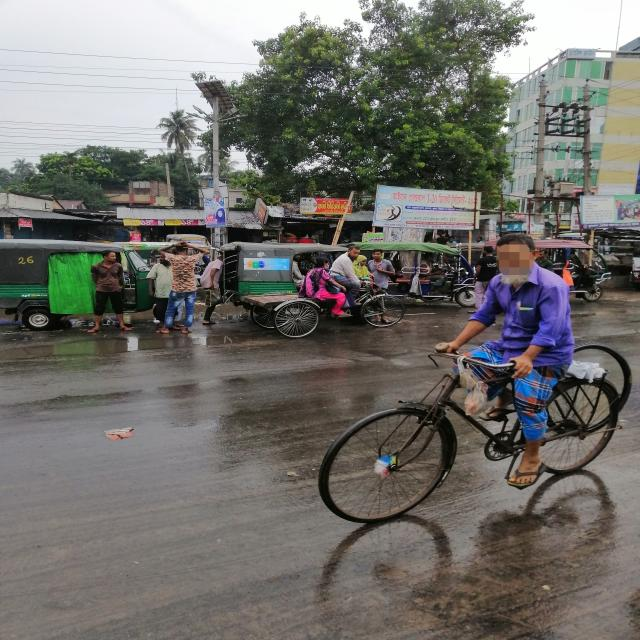Bicycle: (273, 333, 640, 522), (247, 288, 439, 338)
CNG: (1, 220, 182, 353)
Easybike: (227, 239, 405, 343), (327, 231, 495, 333)
